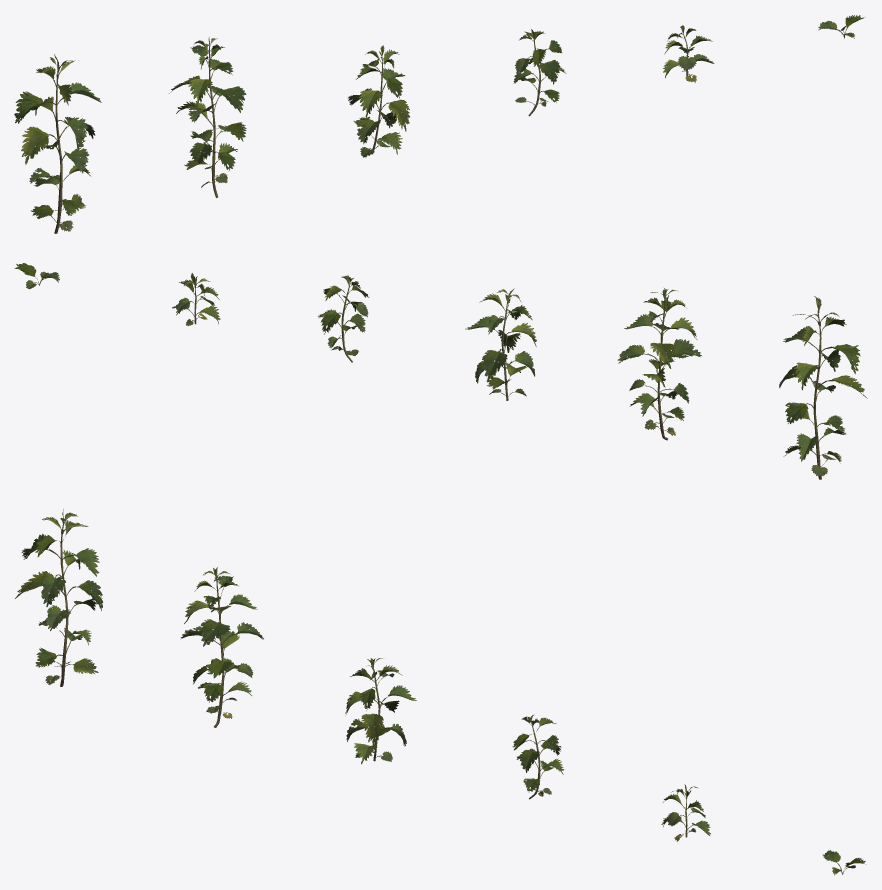
File: nettle_plant.glb
3 views of the same model, one above another, from view 1: azimuth 30°, elevation 25°; view 2: azimuth 150°, elevation 25°; view 3: azimuth 330°, elevation 25° (orthographic).
Parts seen in each view (by area): view 1: nettle_plant_tall_a_LOD0, nettle_plant_tall_b_LOD0, nettle_plant_medium_a_LOD0, nettle_plant_medium_b_LOD0, nettle_plant_small_a_LOD0; view 2: nettle_plant_tall_a_LOD0, nettle_plant_tall_b_LOD0, nettle_plant_medium_a_LOD0, nettle_plant_medium_b_LOD0, nettle_plant_small_a_LOD0; view 3: nettle_plant_tall_a_LOD0, nettle_plant_tall_b_LOD0, nettle_plant_medium_a_LOD0, nettle_plant_medium_b_LOD0, nettle_plant_small_a_LOD0.
Boxes of the visible parts, x1,y1,x2,y2 form: nettle_plant_tall_a_LOD0: (14,54,101,233); nettle_plant_tall_b_LOD0: (169,37,246,197); nettle_plant_medium_a_LOD0: (348,45,409,157); nettle_plant_medium_b_LOD0: (513,29,566,116); nettle_plant_small_a_LOD0: (663,25,714,82); nettle_plant_tall_a_LOD0: (779,296,867,479); nettle_plant_tall_b_LOD0: (617,288,701,440); nettle_plant_medium_a_LOD0: (465,288,536,400); nettle_plant_medium_b_LOD0: (318,275,369,362); nettle_plant_small_a_LOD0: (172,273,220,325); nettle_plant_tall_a_LOD0: (15,509,103,686); nettle_plant_tall_b_LOD0: (181,567,263,727); nettle_plant_medium_a_LOD0: (345,658,416,764); nettle_plant_medium_b_LOD0: (512,714,564,799); nettle_plant_small_a_LOD0: (661,784,710,841).
Bounding box in the file's own units: 1.08 × 0.2183 × 0.0947.
1 material, 1 textured.
